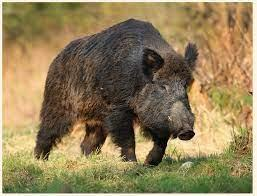Hog: (34, 17, 200, 169)
